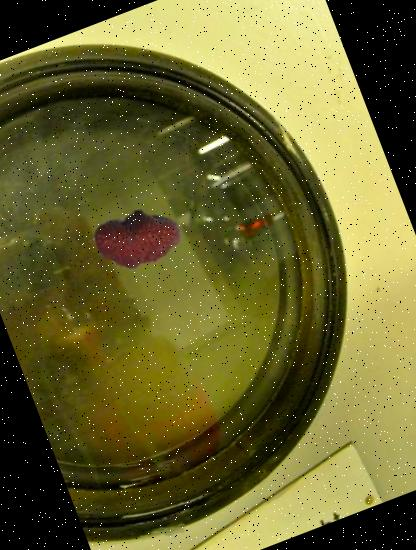Strawberry: (80, 181, 195, 296)
